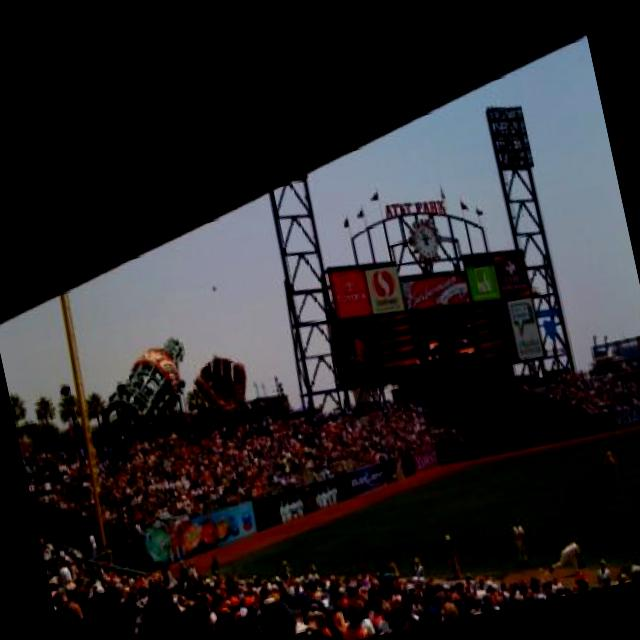Person: (41, 440, 590, 640), (21, 369, 435, 546), (546, 355, 640, 420), (540, 530, 588, 576), (509, 516, 529, 562), (441, 534, 460, 577), (592, 557, 610, 586), (602, 446, 618, 478), (627, 555, 640, 579), (615, 572, 630, 582)
